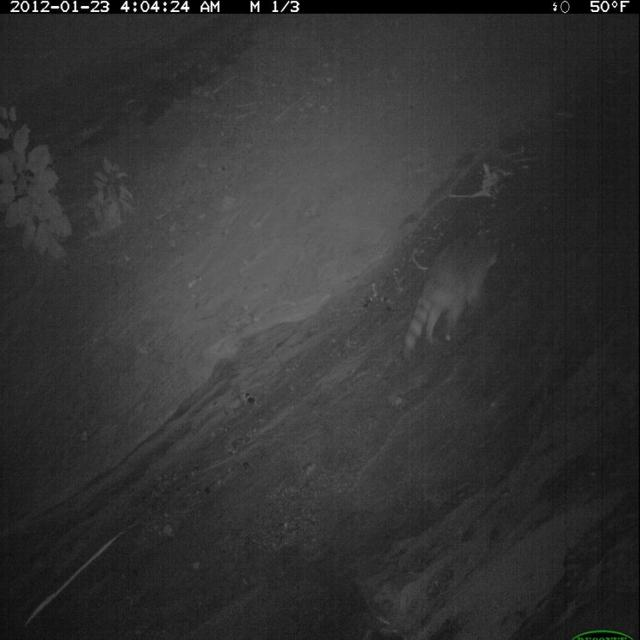raccoon: (398, 217, 506, 368)
